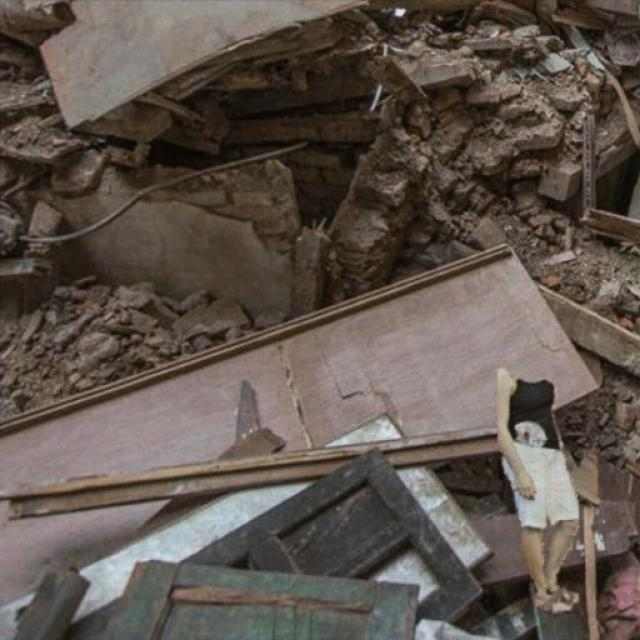Person in Rubble: (498, 368, 578, 612)
